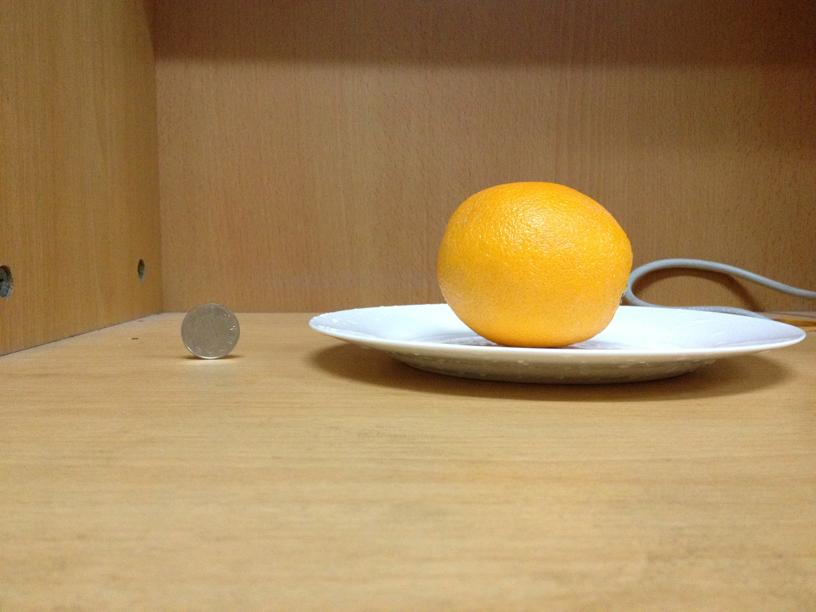coin: (180, 301, 240, 359)
orange: (434, 178, 637, 343)
